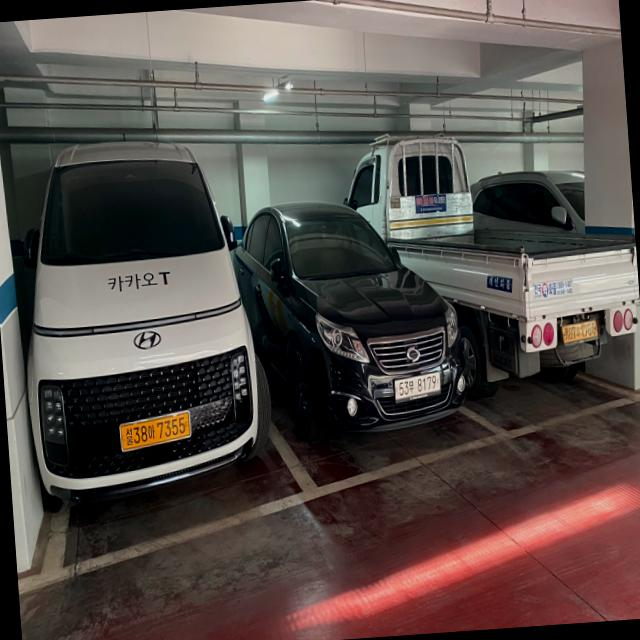car: (12, 130, 275, 496), (247, 190, 468, 440), (457, 177, 640, 410)
